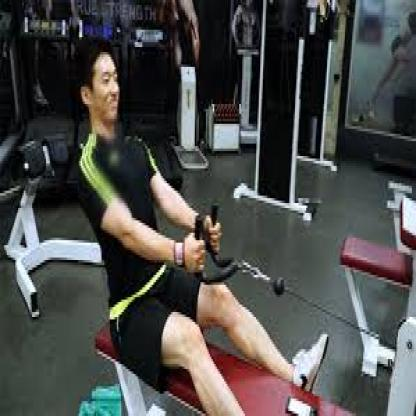Seated Cable Rows: (64, 12, 415, 416)
